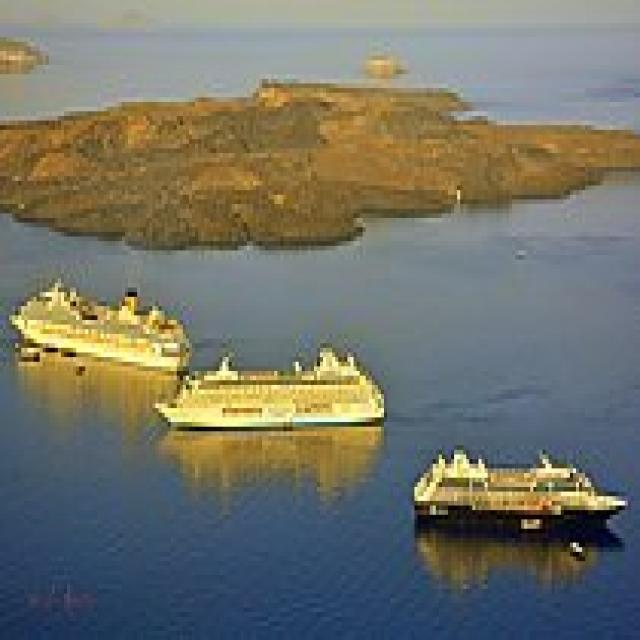Ship: (397, 428, 638, 567), (151, 335, 410, 456), (13, 251, 190, 372)
